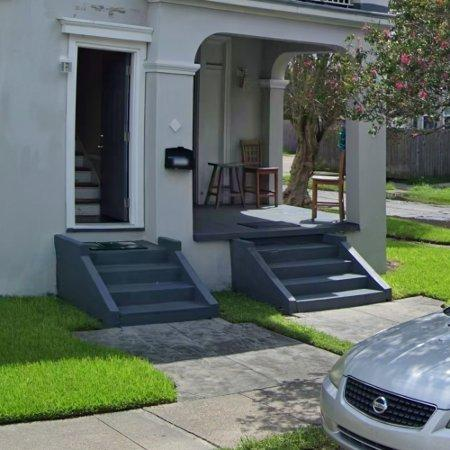stairs: (54, 235, 218, 327), (252, 236, 389, 312), (76, 140, 101, 222)
